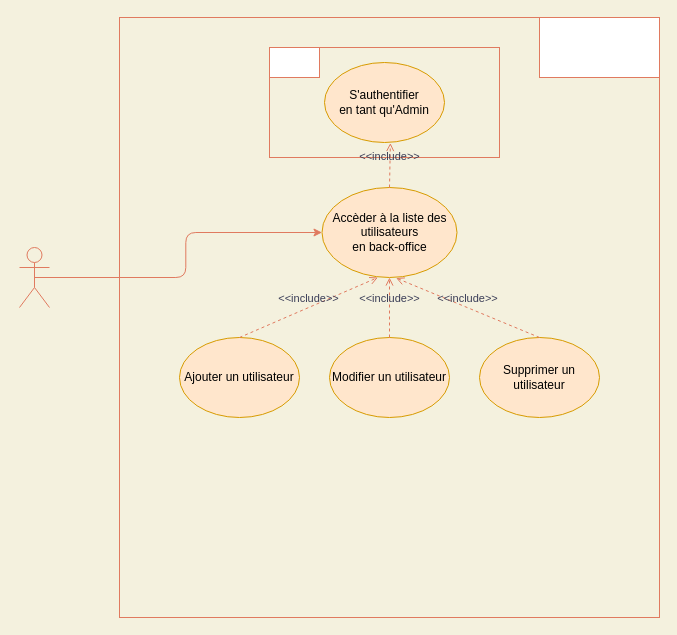
Image size: 677x635. Some labels were removed from this diagram. Here are the shapes that lost their labels. From the top down, the box of each, then its label:
(268, 46, 320, 78): ref
(538, 16, 660, 78): Système
(18, 246, 50, 308): Admin
